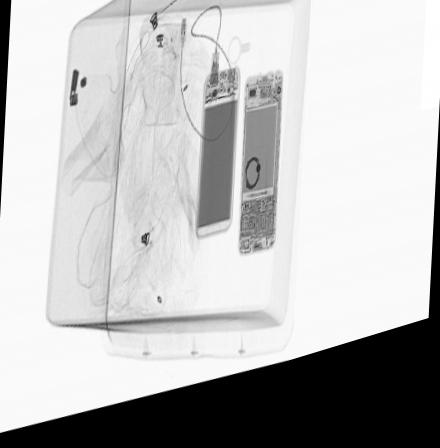Powerbank: (194, 78, 240, 256)
